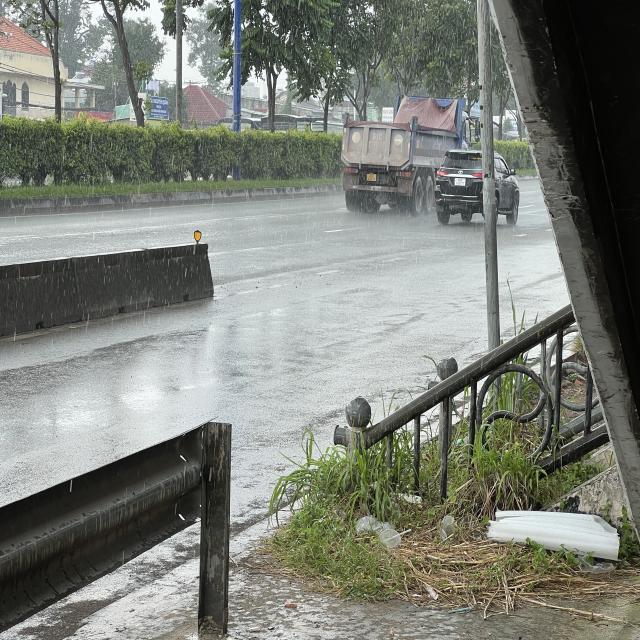car: (432, 145, 520, 225)
container: (343, 96, 472, 218)
